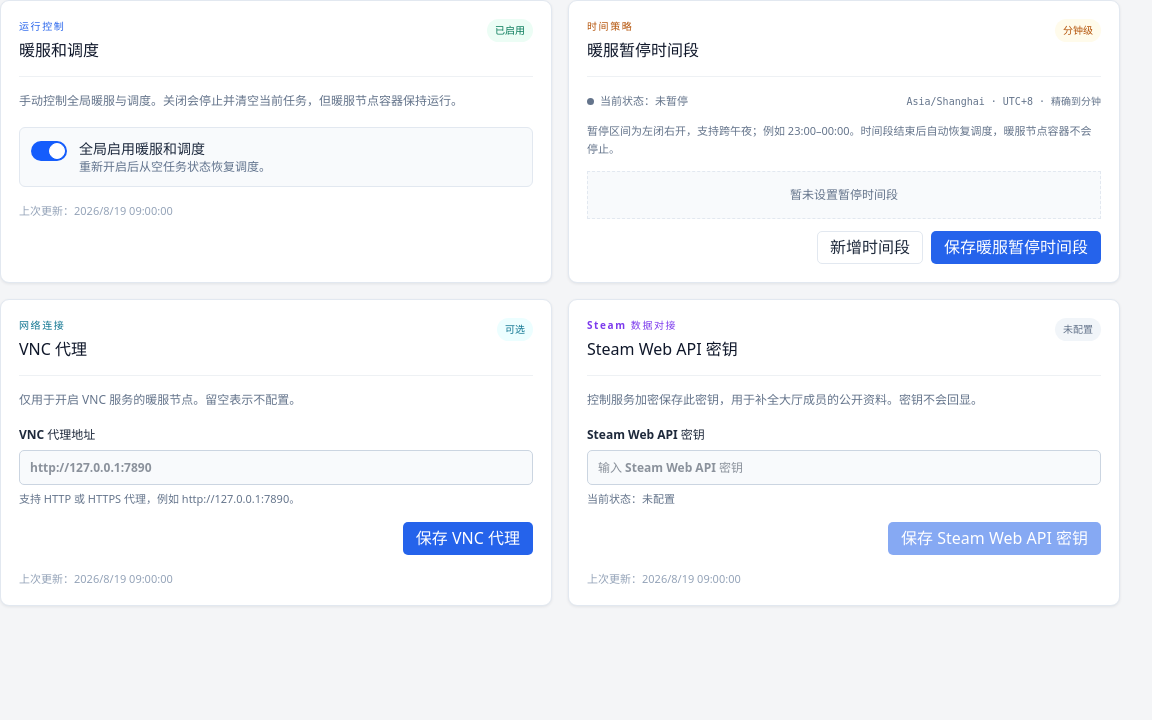
全局设置 › keeps the previous switch state and maps a drain conflict
Click the checkbox labelled "全局启用暖服和调度".
click(151, 157)  # box top-left (31, 139), bottom-right (271, 175)
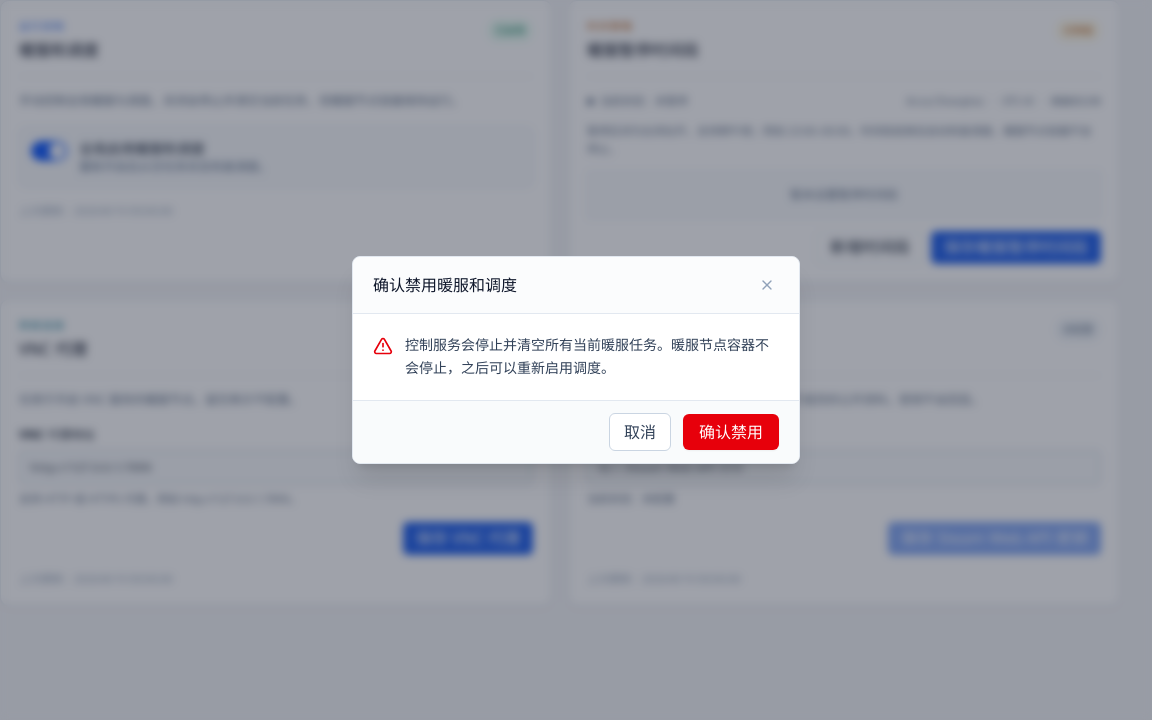
Click the button "确认禁用".
click(731, 432)  # box top-left (683, 414), bottom-right (779, 450)
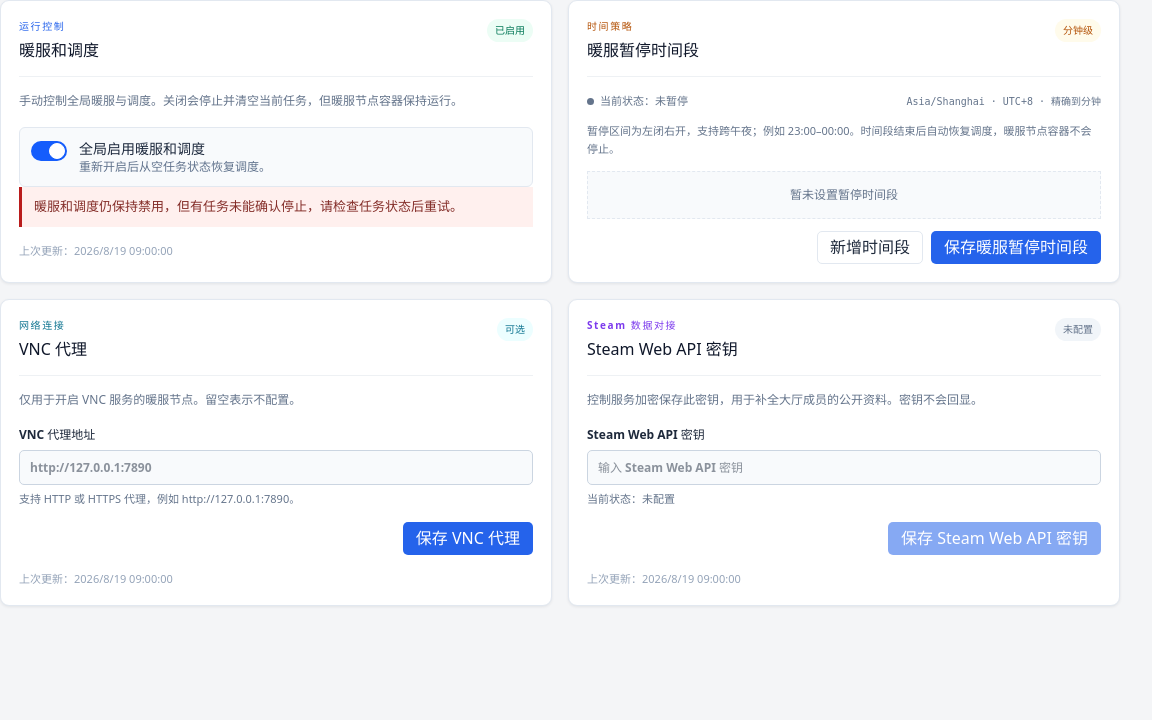
Check: the checkbox labelled "全局启用暖服和调度" is checked, box top-left (31, 139), bottom-right (271, 175)
Check: the text "暖服和调度仍保持禁用，但有任务未能确认停止，请检查任务状态后重试。" is shown, box top-left (19, 187), bottom-right (533, 227)
